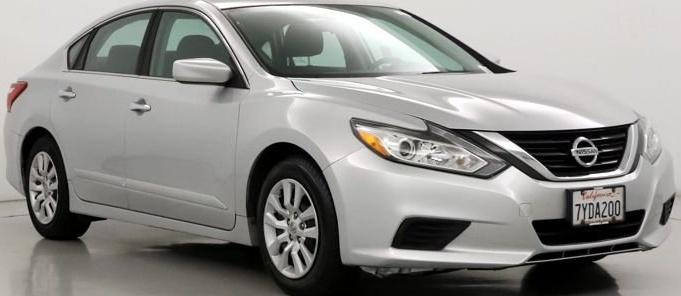Cars: (4, 0, 674, 294)
